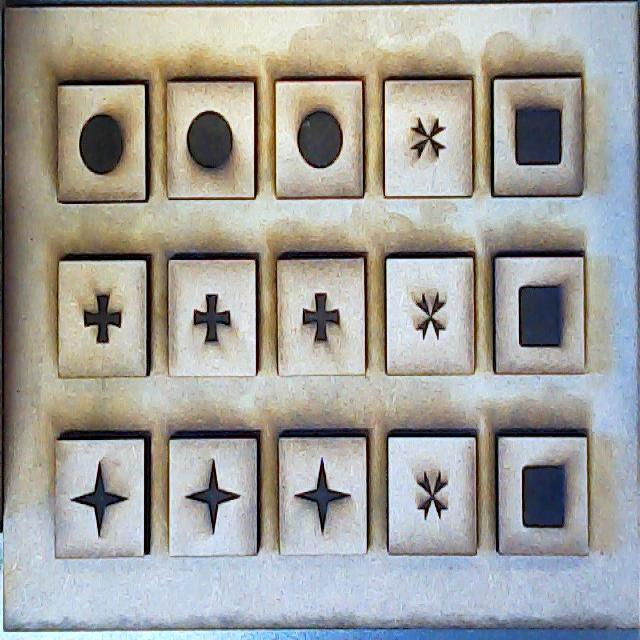circle: (58, 78, 148, 198), (165, 83, 257, 199), (274, 80, 364, 197)
maltese: (389, 434, 479, 555), (387, 257, 475, 376), (384, 80, 472, 195)
square: (495, 251, 589, 376), (496, 434, 590, 551), (493, 80, 580, 193)
star: (56, 434, 148, 559), (168, 439, 258, 560), (278, 438, 367, 555)
temple: (168, 255, 260, 376), (58, 256, 149, 376), (276, 255, 366, 372)
